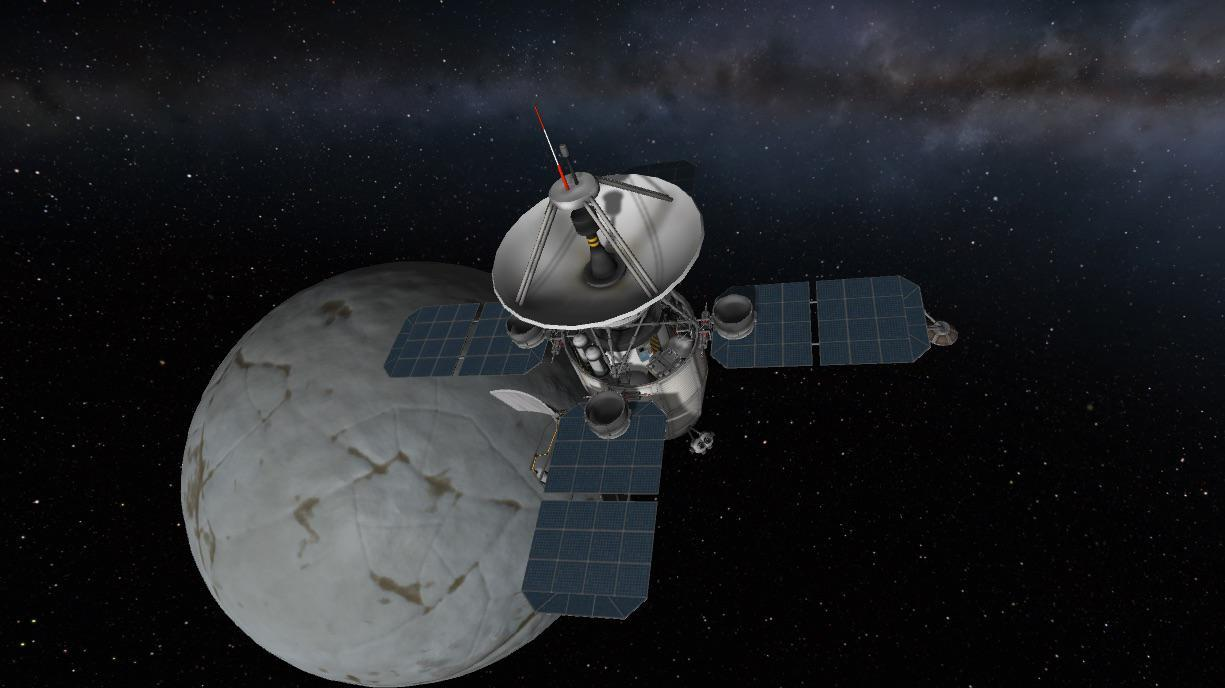antenna: (489, 101, 708, 333), (487, 387, 563, 486), (925, 318, 961, 348)
body: (561, 288, 710, 443)
solar: (519, 394, 671, 623), (708, 273, 934, 371), (380, 300, 553, 380), (615, 156, 700, 205)
thruster: (702, 435, 714, 446), (696, 440, 707, 451)
